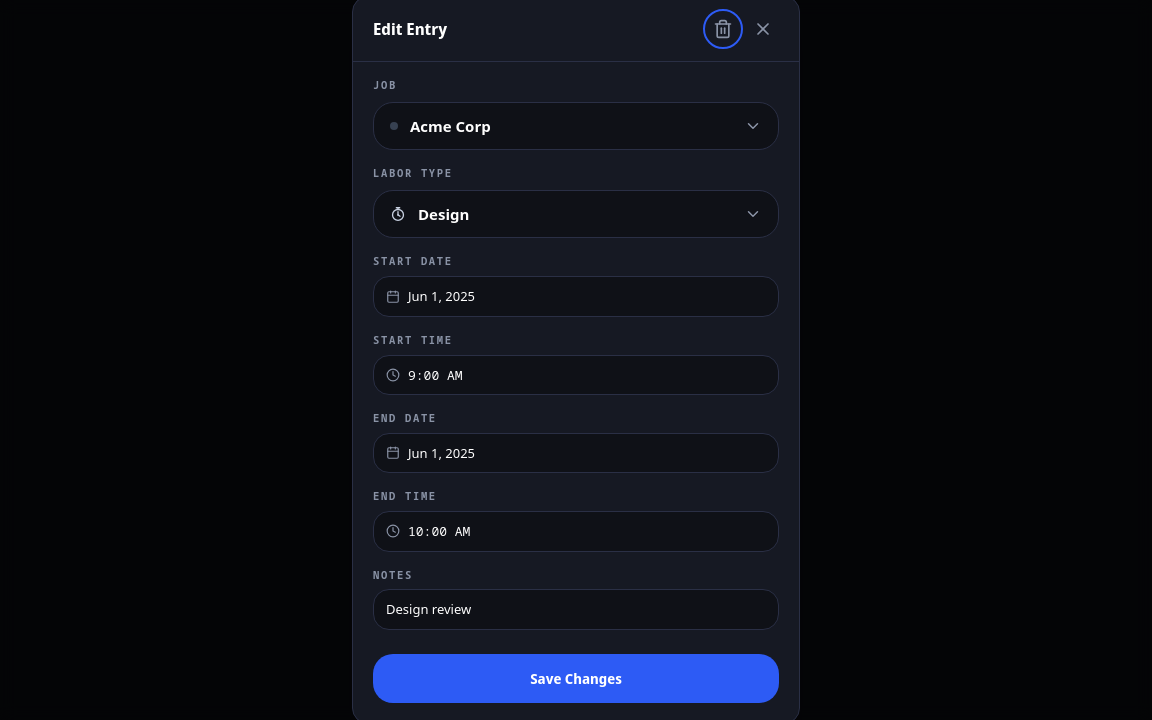
Test: EditEntryModal — validation › shows "End must be after start." when end is before start
The width and height of the screenshot is (1152, 720).
Click the button with aria-label "end time" at (439, 531), box [373,511,779,552]
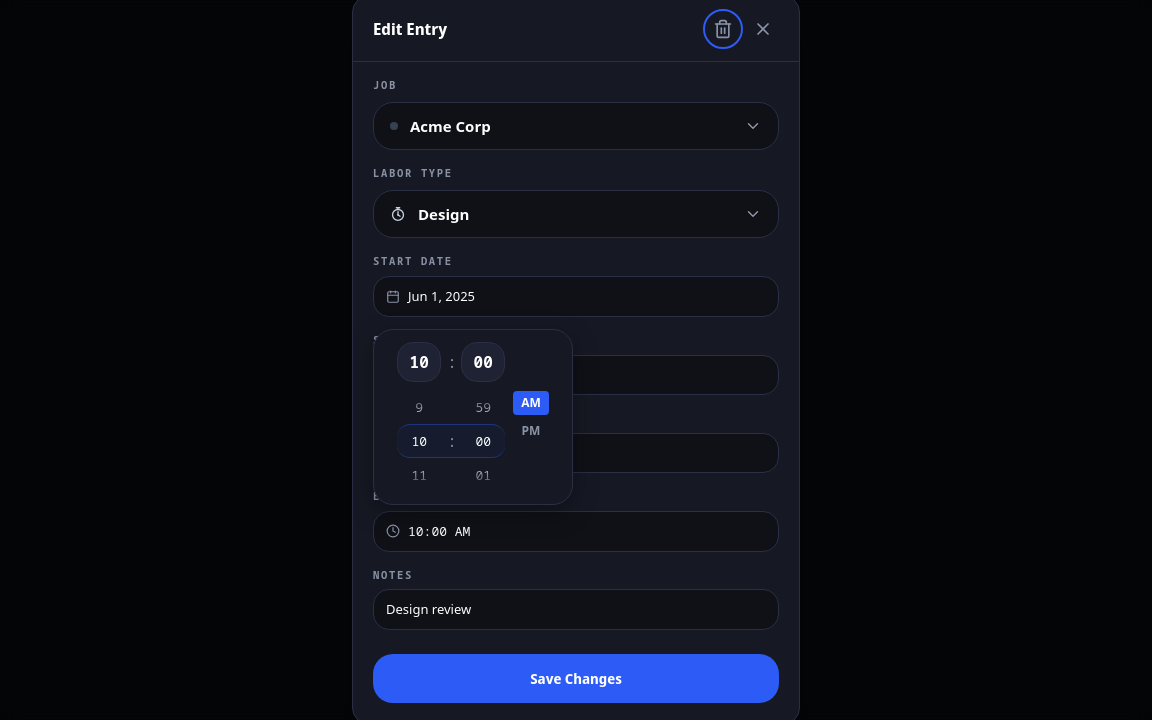
Press ArrowUp in the number field named "hours (end time)", box [411,398,427,484]
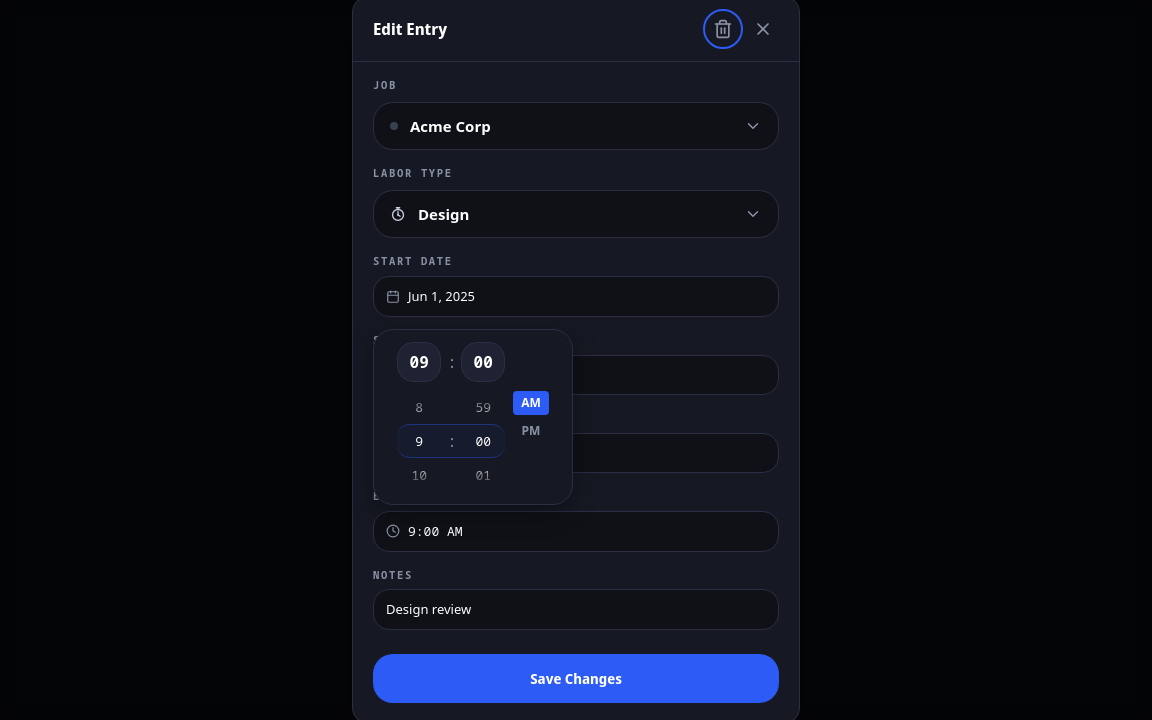
Press ArrowUp in the number field named "hours (end time)", box [411,398,427,484]
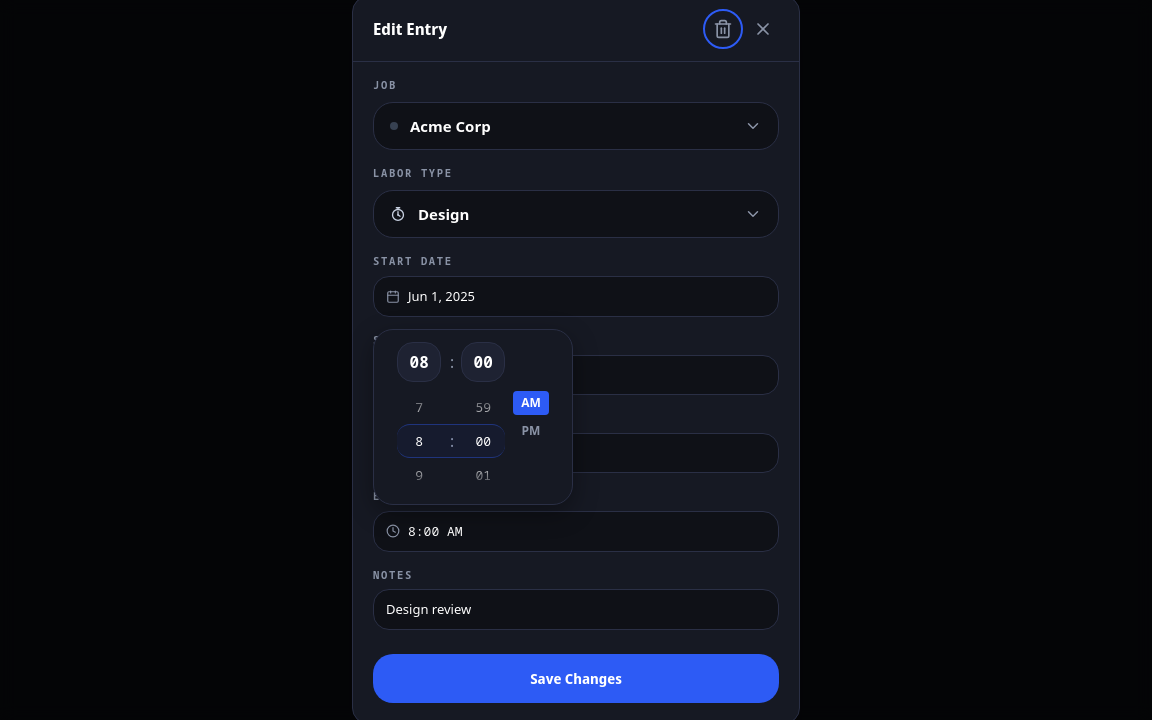
Click the button "Save Changes" at (576, 678), box [373,654,779,703]
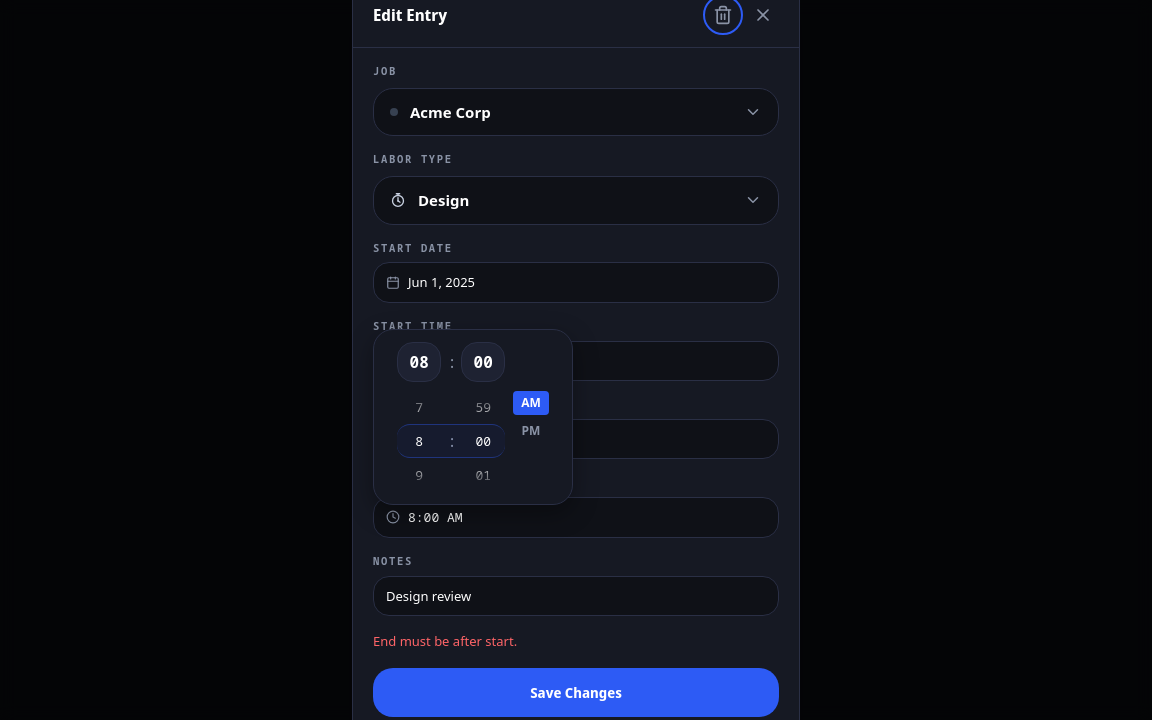
Now the text "End must be after start." is shown, box [373,632,517,650]
